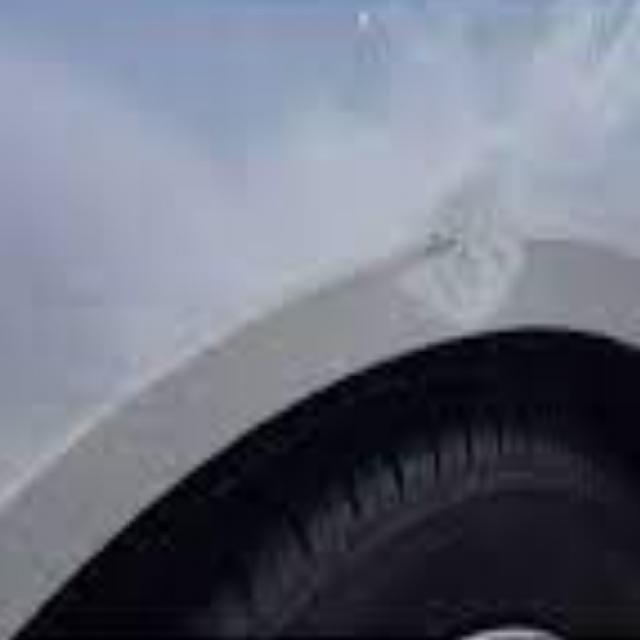dents: (412, 171, 560, 326)
